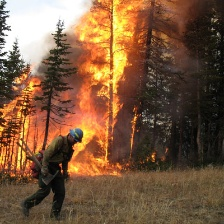fire: (61, 1, 134, 178), (1, 67, 44, 182)
smoke: (44, 30, 82, 117), (168, 2, 197, 82)
